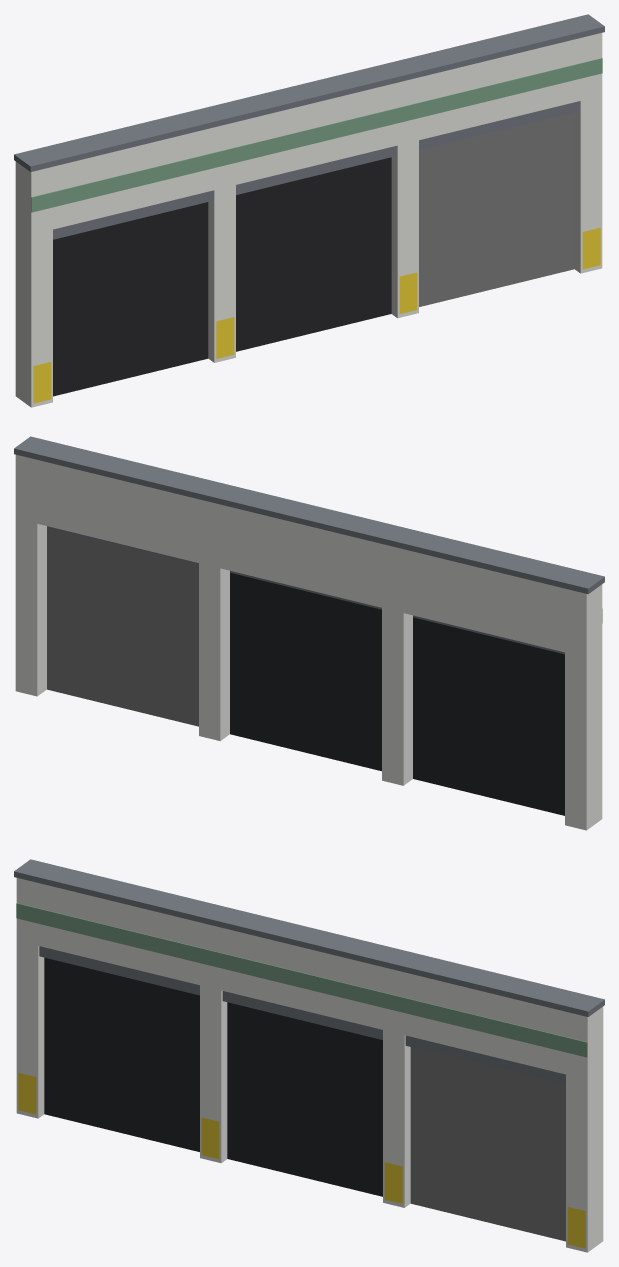
Rendered from entrance.fbx.
The picture shows the model from 3 angles, top to bottom: view 1: azimuth 30°, elevation 25°; view 2: azimuth 150°, elevation 25°; view 3: azimuth 330°, elevation 25°; orthographic projection.
Parts seen in each view (by area): view 1: a1061/0/entrance; view 2: a1061/0/entrance; view 3: a1061/0/entrance.
Boxes of the visible parts, <box> form: a1061/0/entrance: <box>14,14,604,407</box>; a1061/0/entrance: <box>14,436,604,830</box>; a1061/0/entrance: <box>14,859,604,1252</box>.
Bounding box in the file's own units: 16 × 6.45 × 0.8.
